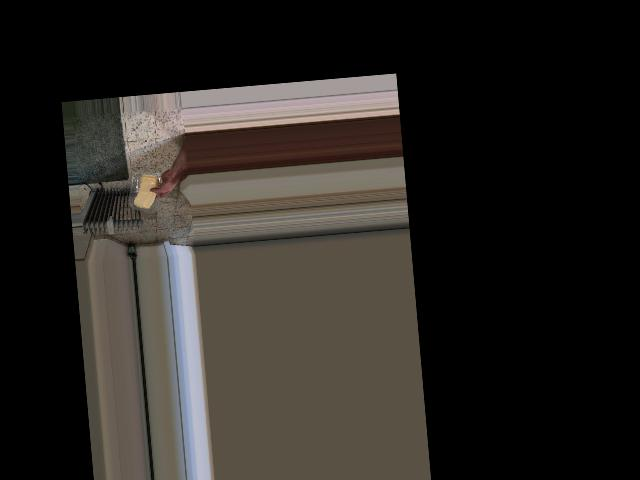cheese: (130, 170, 162, 213)
